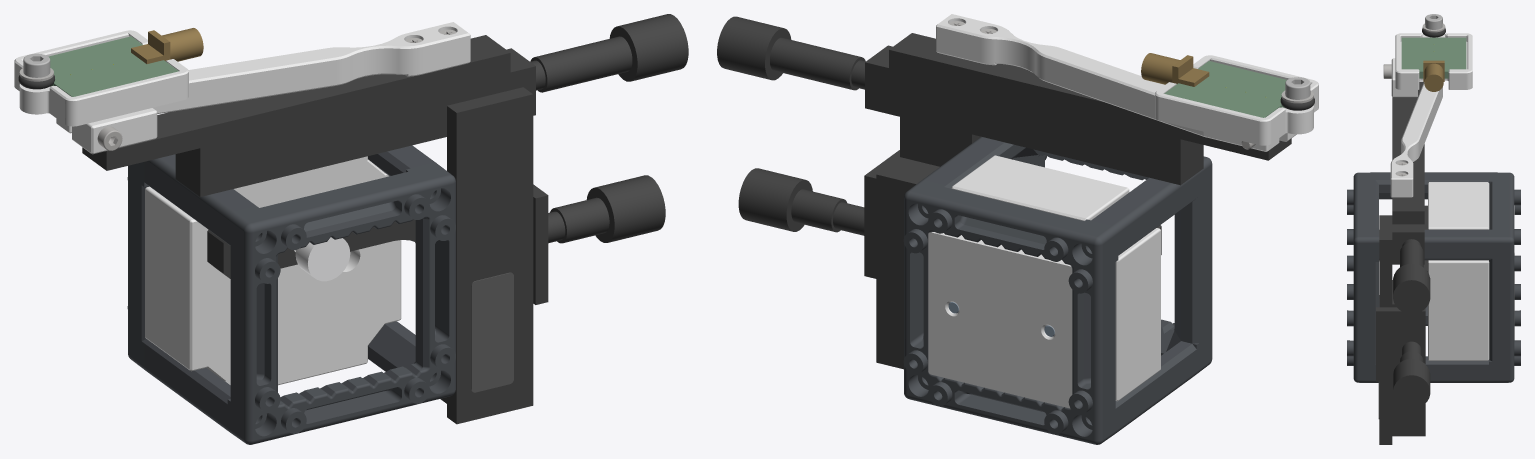
The model's file is ASS_-_3005_-_CUBMANXYST04DIA_-_A.glb.
3 renders of one model, left to right at view 1: azimuth 30°, elevation 25°; view 2: azimuth 150°, elevation 25°; view 3: azimuth 270°, elevation 25°, orthographic. The views are drawn at different scales.
Visible parts, largest first — view 1: BUY - Microscope XY stage - type 04 --- X stage:1, PRT - 1003 - CUBHLF111 - V04:2, PRT - 3014 - UPPCLPPCE - V04 - A:1, BUY - Microscope XY stage - type 04 --- Y stage:1, BUY - Microscope XY stage - type 04 --- Base:1, PRT - 3012 - LVR - A:1, PRT - 1003 - CUBHLF111 - V04:1, PRT - 3007 - DIABRDHOL - A:1, BRD - Diamands board with HF antenna:1, PRT - 5005 - STKCAUHNDCRU25x10:1, PRT - 3011 - MNTZAX - A:1; view 2: PRT - 1003 - CUBHLF111 - V04:1, BUY - Microscope XY stage - type 04 --- X stage:1, PRT - 3015 - LOWCLPPCE:1, BUY - Microscope XY stage - type 04 --- Base:1, PRT - 3014 - UPPCLPPCE - V04 - A:1, PRT - 1003 - CUBHLF111 - V04:2, PRT - 3012 - LVR - A:1, BUY - Microscope XY stage - type 04 --- Y stage:1, PRT - 3007 - DIABRDHOL - A:1, BRD - Diamands board with HF antenna:1; view 3: PRT - 3014 - UPPCLPPCE - V04 - A:1, PRT - 1003 - CUBHLF111 - V04:2, PRT - 1003 - CUBHLF111 - V04:1, BUY - Microscope XY stage - type 04 --- Base:1, BUY - Microscope XY stage - type 04 --- X stage:1, BRD - Diamands board with HF antenna:1, PRT - 3012 - LVR - A:1, BUY - Microscope XY stage - type 04 --- Y stage:1, PRT - 3007 - DIABRDHOL - A:1, PRT - 3011 - MNTZAX - A:1, ISO 4762 - Hex socket head cap screw - M3 x 8 - A2-50:1.
Part boxes in pixels (x1,y1,x2,y2): BUY - Microscope XY stage - type 04 --- X stage:1: (175, 14, 688, 424); PRT - 1003 - CUBHLF111 - V04:2: (144, 154, 455, 444); PRT - 3014 - UPPCLPPCE - V04 - A:1: (145, 156, 401, 385); BUY - Microscope XY stage - type 04 --- Y stage:1: (82, 35, 510, 170); BUY - Microscope XY stage - type 04 --- Base:1: (207, 175, 665, 403); PRT - 3012 - LVR - A:1: (56, 22, 470, 133); PRT - 1003 - CUBHLF111 - V04:1: (127, 145, 435, 431); PRT - 3007 - DIABRDHOL - A:1: (14, 30, 188, 126); BRD - Diamands board with HF antenna:1: (48, 28, 203, 96); PRT - 5005 - STKCAUHNDCRU25x10:1: (471, 272, 513, 392); PRT - 3011 - MNTZAX - A:1: (72, 108, 157, 154); PRT - 1003 - CUBHLF111 - V04:1: (903, 136, 1196, 444); BUY - Microscope XY stage - type 04 --- X stage:1: (717, 16, 1203, 185); PRT - 3015 - LOWCLPPCE:1: (928, 232, 1072, 408); BUY - Microscope XY stage - type 04 --- Base:1: (738, 150, 1161, 369); PRT - 3014 - UPPCLPPCE - V04 - A:1: (951, 155, 1160, 401); PRT - 1003 - CUBHLF111 - V04:2: (925, 147, 1212, 382); PRT - 3012 - LVR - A:1: (936, 14, 1279, 151); BUY - Microscope XY stage - type 04 --- Y stage:1: (889, 33, 1291, 160); PRT - 3007 - DIABRDHOL - A:1: (1155, 55, 1318, 145); BRD - Diamands board with HF antenna:1: (1141, 53, 1286, 117); PRT - 3014 - UPPCLPPCE - V04 - A:1: (1428, 182, 1489, 360); PRT - 1003 - CUBHLF111 - V04:2: (1347, 172, 1488, 382); PRT - 1003 - CUBHLF111 - V04:1: (1379, 172, 1520, 382); BUY - Microscope XY stage - type 04 --- Base:1: (1376, 205, 1430, 436); BUY - Microscope XY stage - type 04 --- X stage:1: (1379, 215, 1430, 444); BRD - Diamands board with HF antenna:1: (1401, 37, 1466, 91); PRT - 3012 - LVR - A:1: (1390, 82, 1442, 197); BUY - Microscope XY stage - type 04 --- Y stage:1: (1392, 81, 1424, 224); PRT - 3007 - DIABRDHOL - A:1: (1395, 33, 1472, 89); PRT - 3011 - MNTZAX - A:1: (1391, 58, 1417, 97); ISO 4762 - Hex socket head cap screw - M3 x 8 - A2-50:1: (1425, 14, 1442, 29).
Size of the model in its own units: 150 by 96.1 by 53.8.
